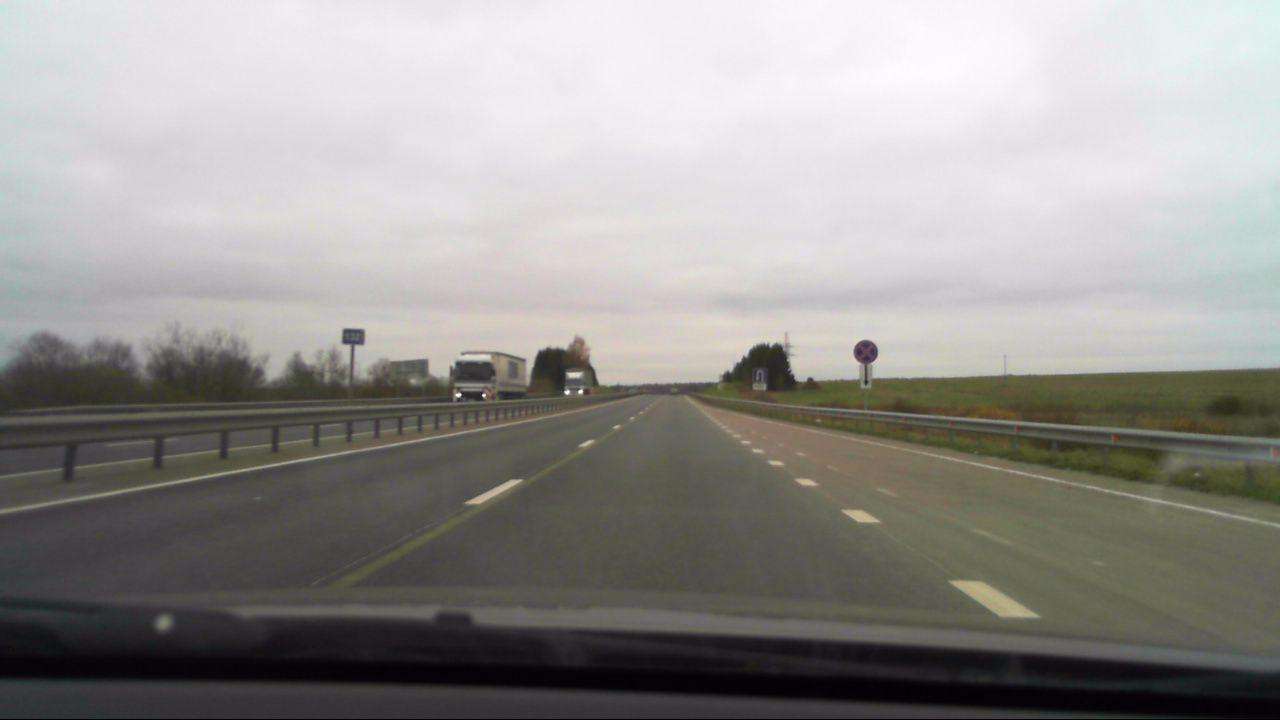3_27: (852, 340, 877, 363)
6_3_1: (752, 369, 767, 382)
8_1_1: (752, 384, 768, 391)
8_2_3: (859, 364, 872, 390)
